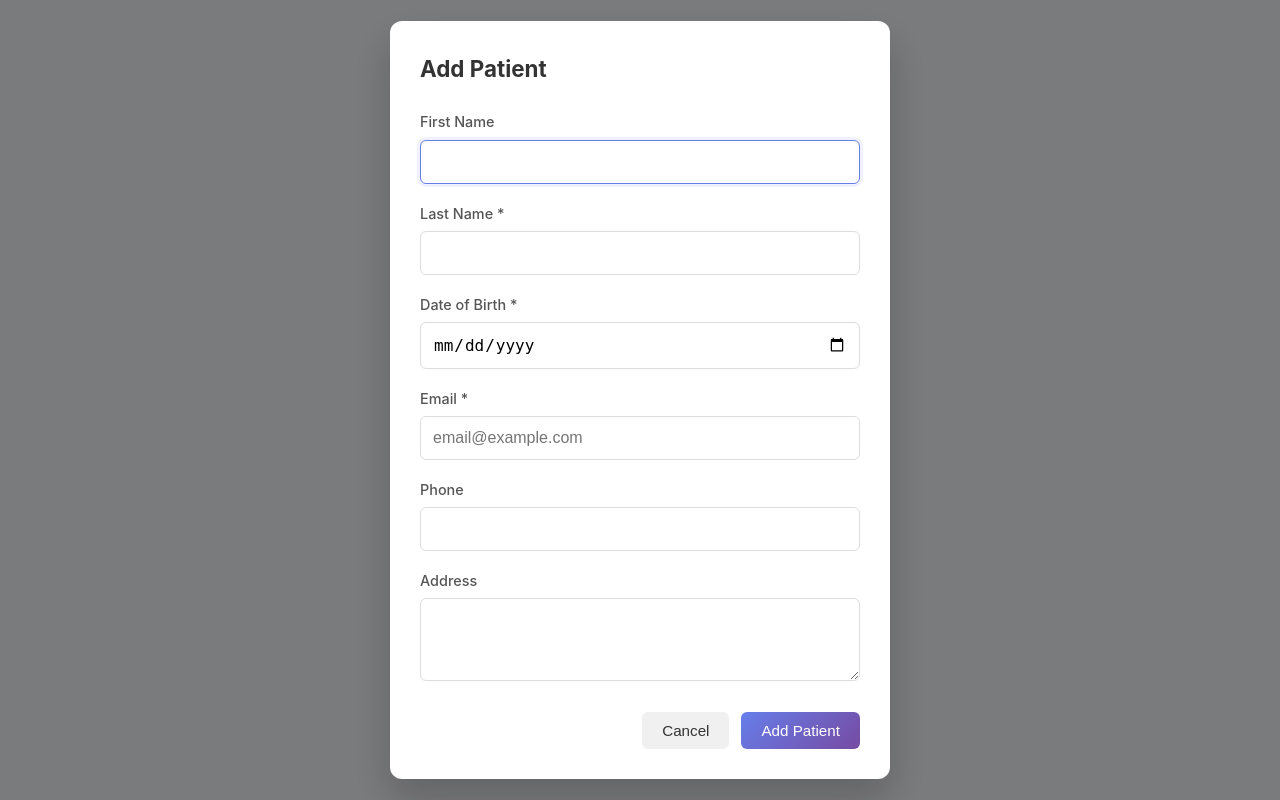
Test: PatientForm › shows validation error for invalid email format
Type "Smith" into the field labelled "Last Name *".
click(640, 253); type("Smith")  # box [420, 231, 860, 275]
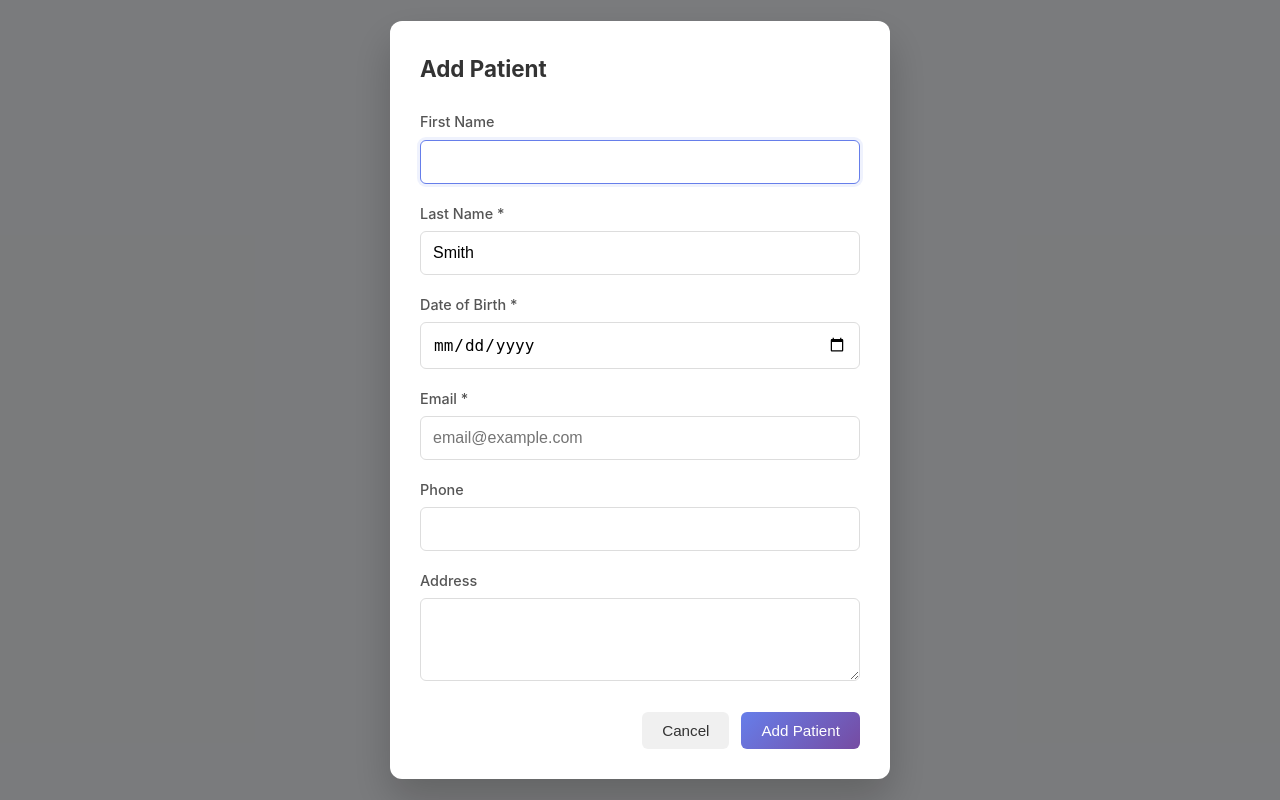
Type "1985-05-20" into the date field labelled "Date of Birth *".
click(640, 345); type("1985-05-20")  # box [420, 322, 860, 369]
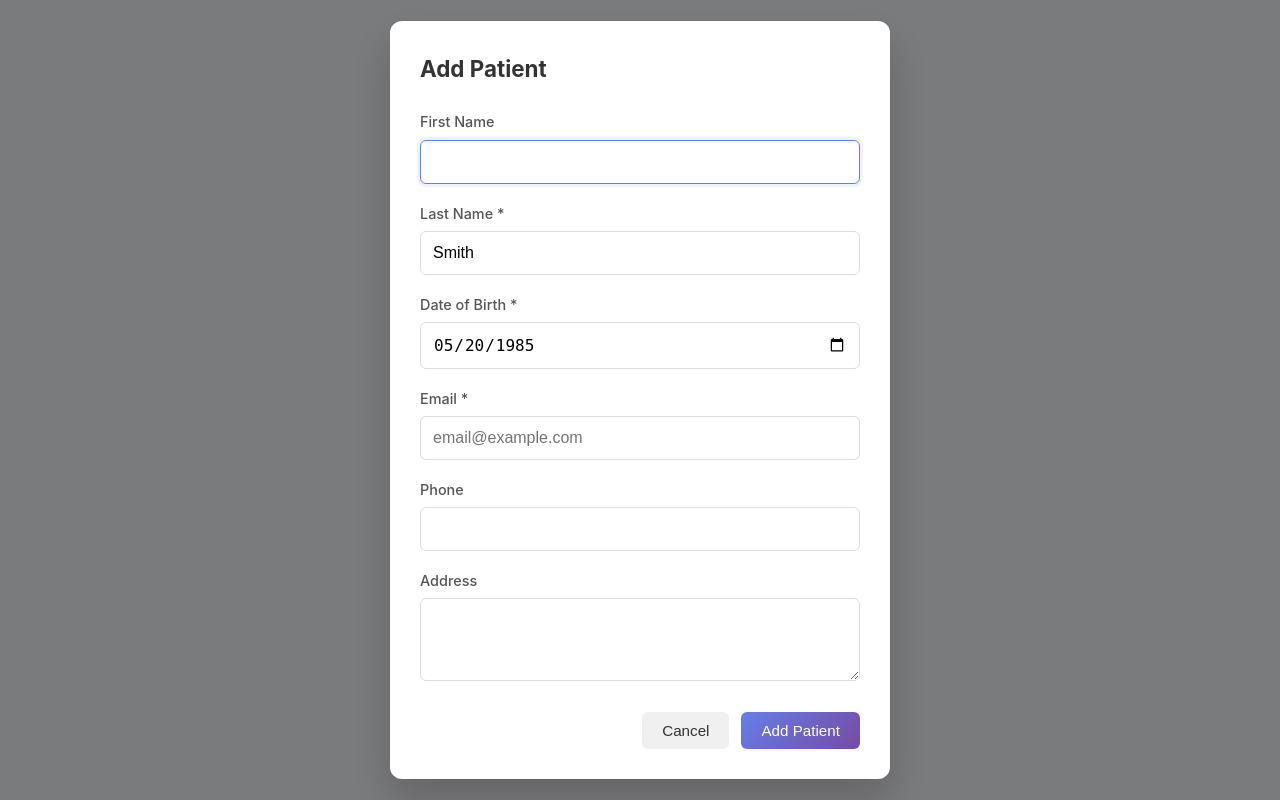
Type "invalid-email" into the field labelled "Email *".
click(640, 438); type("invalid-email")  # box [420, 416, 860, 460]
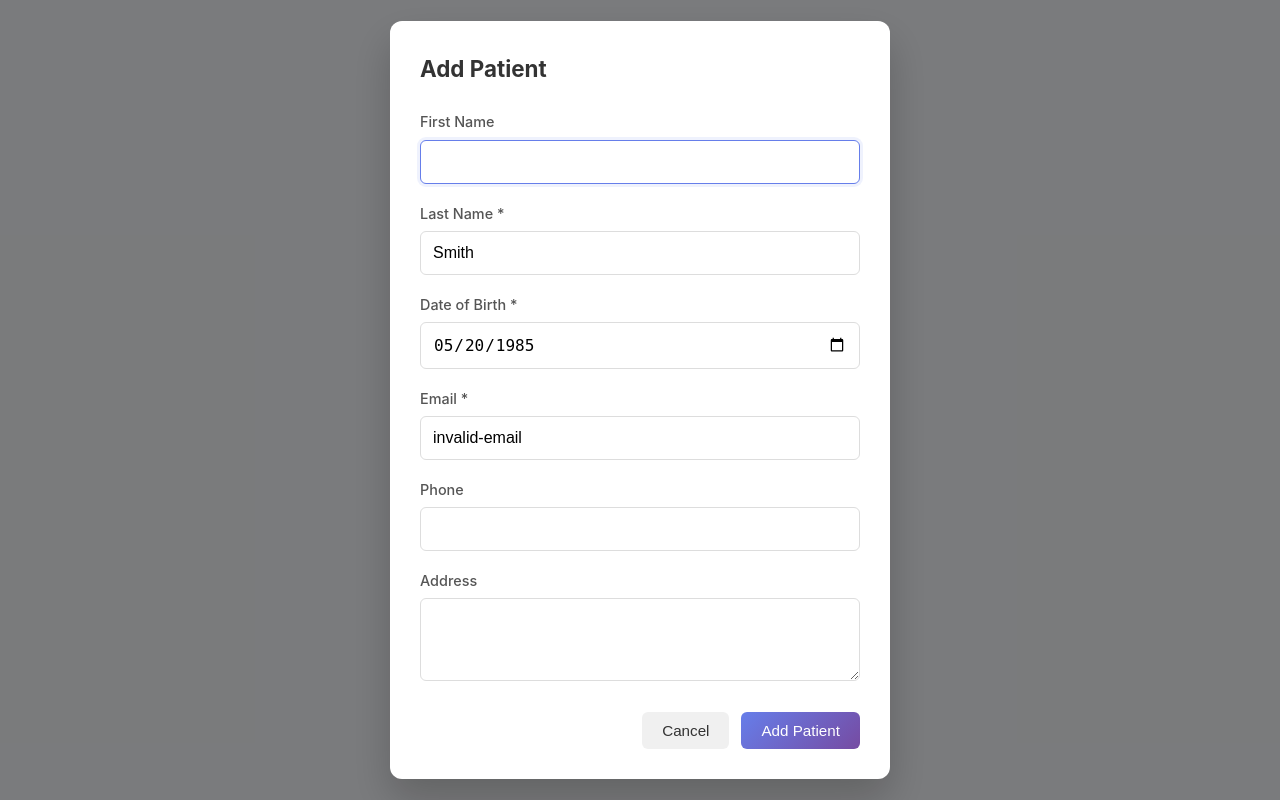
Click the button "Add Patient".
click(801, 731)  # box [742, 712, 860, 749]
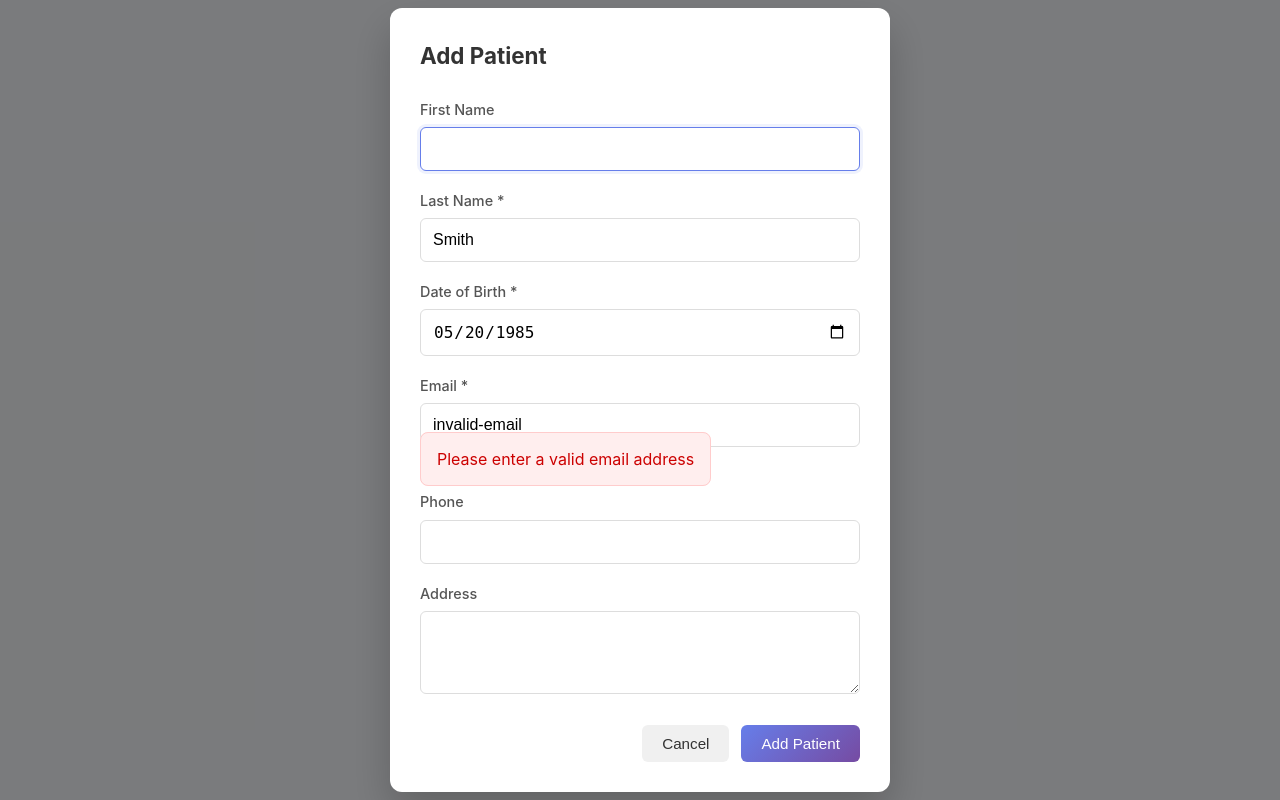
Expected: the text "Please enter a valid email address" is shown, [420, 432, 711, 486]
